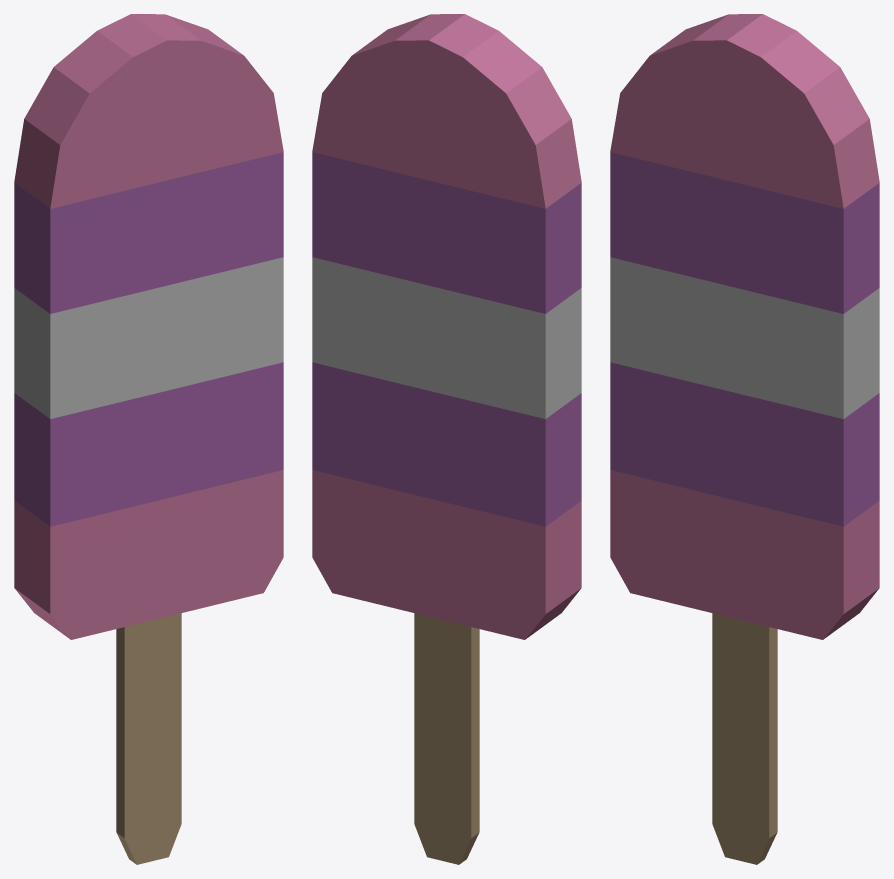
File: Popsicle_Multiple.glb
3 views of the same model, side by side, from view 1: azimuth 30°, elevation 25°; view 2: azimuth 150°, elevation 25°; view 3: azimuth 330°, elevation 25° (orthographic).
Parts seen in each view (by area): view 1: Popsicle_Multiple; view 2: Popsicle_Multiple; view 3: Popsicle_Multiple.
Boxes of the visible parts, x1,y1,x2,y2 form: Popsicle_Multiple: (14, 14, 283, 864); Popsicle_Multiple: (312, 14, 581, 864); Popsicle_Multiple: (610, 14, 879, 864).
Size of the model in its own units: 0.2911 by 0.99 by 0.0798.
